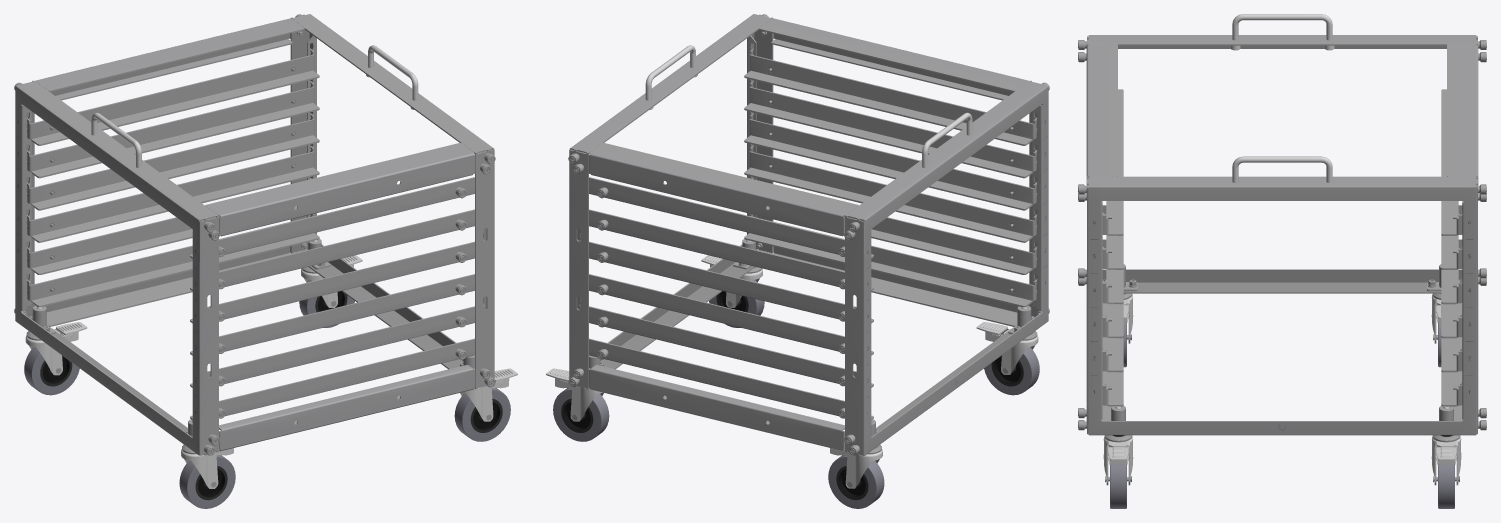
The model's file is toolless-mini-rack.glb.
3 views of the same model, side by side, from view 1: azimuth 30°, elevation 25°; view 2: azimuth 150°, elevation 25°; view 3: azimuth 270°, elevation 25° (orthographic). The views are drawn at different scales.
Visible parts, largest first — view 1: U_Rack_6U_TL_Low_Poly; view 2: U_Rack_6U_TL_Low_Poly; view 3: U_Rack_6U_TL_Low_Poly.
Part boxes in pixels (x1,y1,x2,y2): U_Rack_6U_TL_Low_Poly: (14, 14, 517, 508); U_Rack_6U_TL_Low_Poly: (546, 14, 1049, 508); U_Rack_6U_TL_Low_Poly: (1078, 14, 1486, 508).
Size of the model in its own units: 0.5157 by 0.4831 by 0.5213.
Materials: 2 (1 with a texture image).
